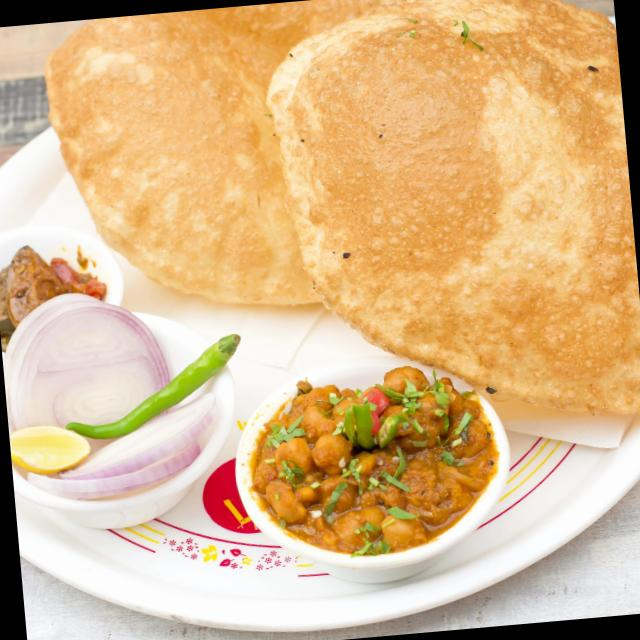Bhatura: (259, 0, 640, 444), (40, 0, 429, 327)
Chole: (246, 354, 497, 568)
